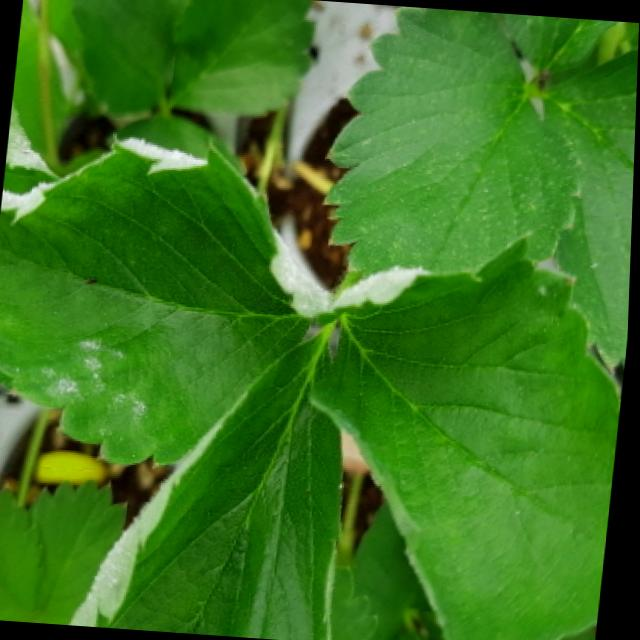Powdery Mildew Leaf: (310, 230, 624, 640), (0, 137, 336, 466), (70, 321, 346, 640), (13, 0, 83, 168), (3, 93, 59, 188)
